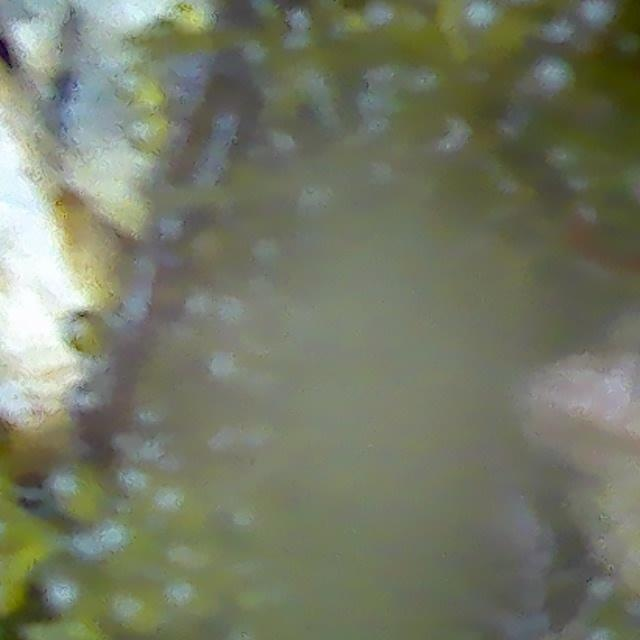SeaGrape: (460, 0, 519, 59), (55, 465, 107, 520), (116, 579, 167, 635)
